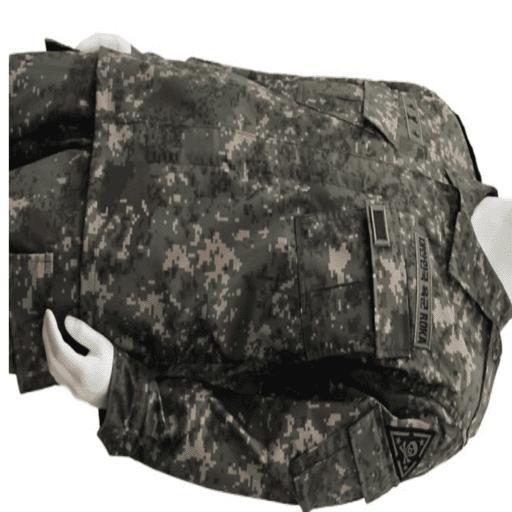korea army: (7, 34, 510, 510)
